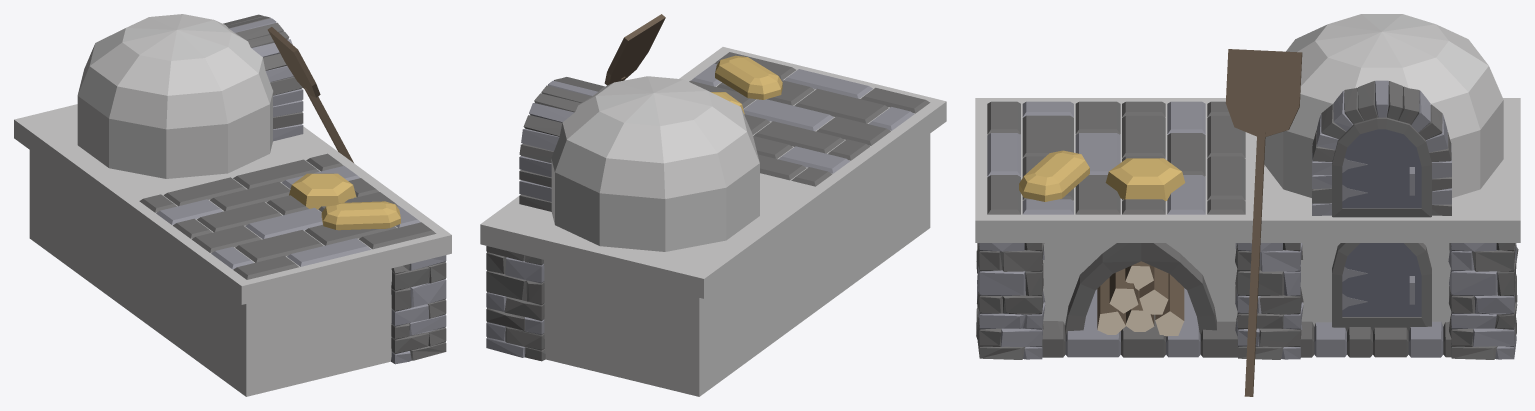
File: bake.glb
3 views of the same model, side by side, from view 1: azimuth 30°, elevation 25°; view 2: azimuth 150°, elevation 25°; view 3: azimuth 270°, elevation 25° (orthographic). The views are drawn at different scales.
Parts seen in each view (by area): view 1: bake; view 2: bake; view 3: bake.
Boxes of the visible parts, <box> form: bake: <box>14,14,451,396</box>; bake: <box>480,14,946,396</box>; bake: <box>975,14,1520,396</box>.
Size of the model in its own units: 0.8331 by 0.6945 by 1.2.
Materials: 1 (1 with a texture image).
